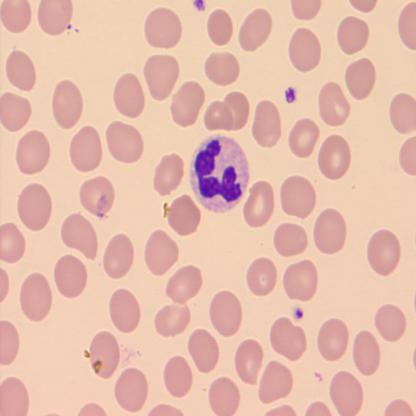Segmented neutrophil: (187, 130, 250, 214)
